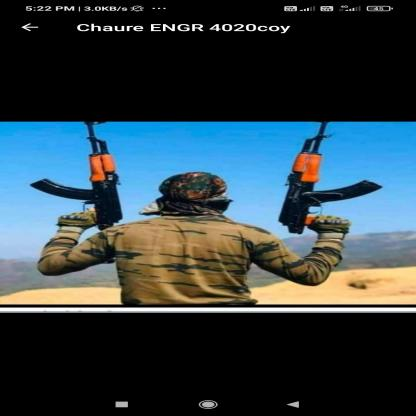rifle: (276, 121, 386, 235), (27, 122, 125, 231)
